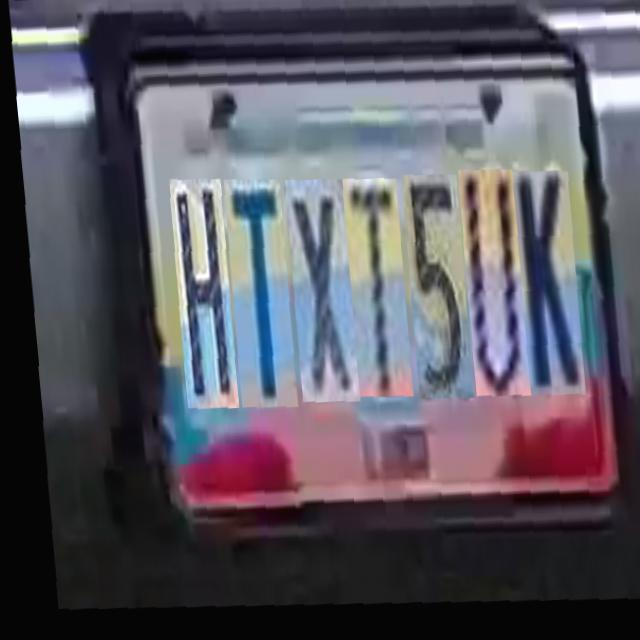5: (391, 162, 462, 388)
H: (160, 173, 228, 405)
K: (502, 154, 574, 380)
T: (214, 172, 286, 402), (332, 168, 402, 388)
U: (447, 154, 518, 383)
X: (274, 170, 348, 395)
